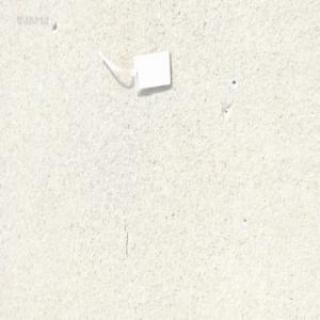LuggageTagtrack_idkeyframe: (95, 46, 172, 96)
